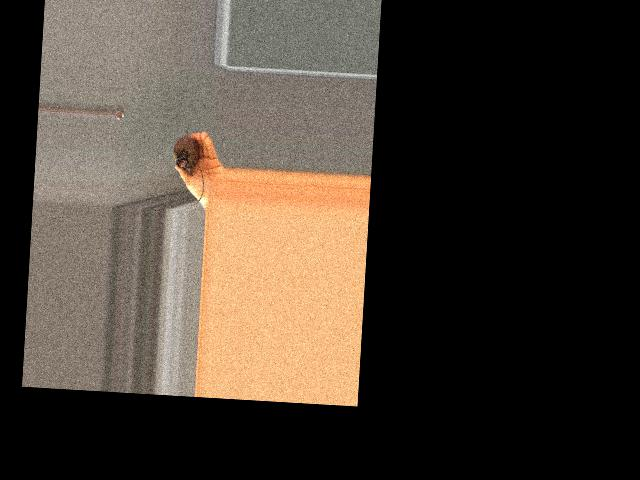beet: (171, 126, 207, 205)
